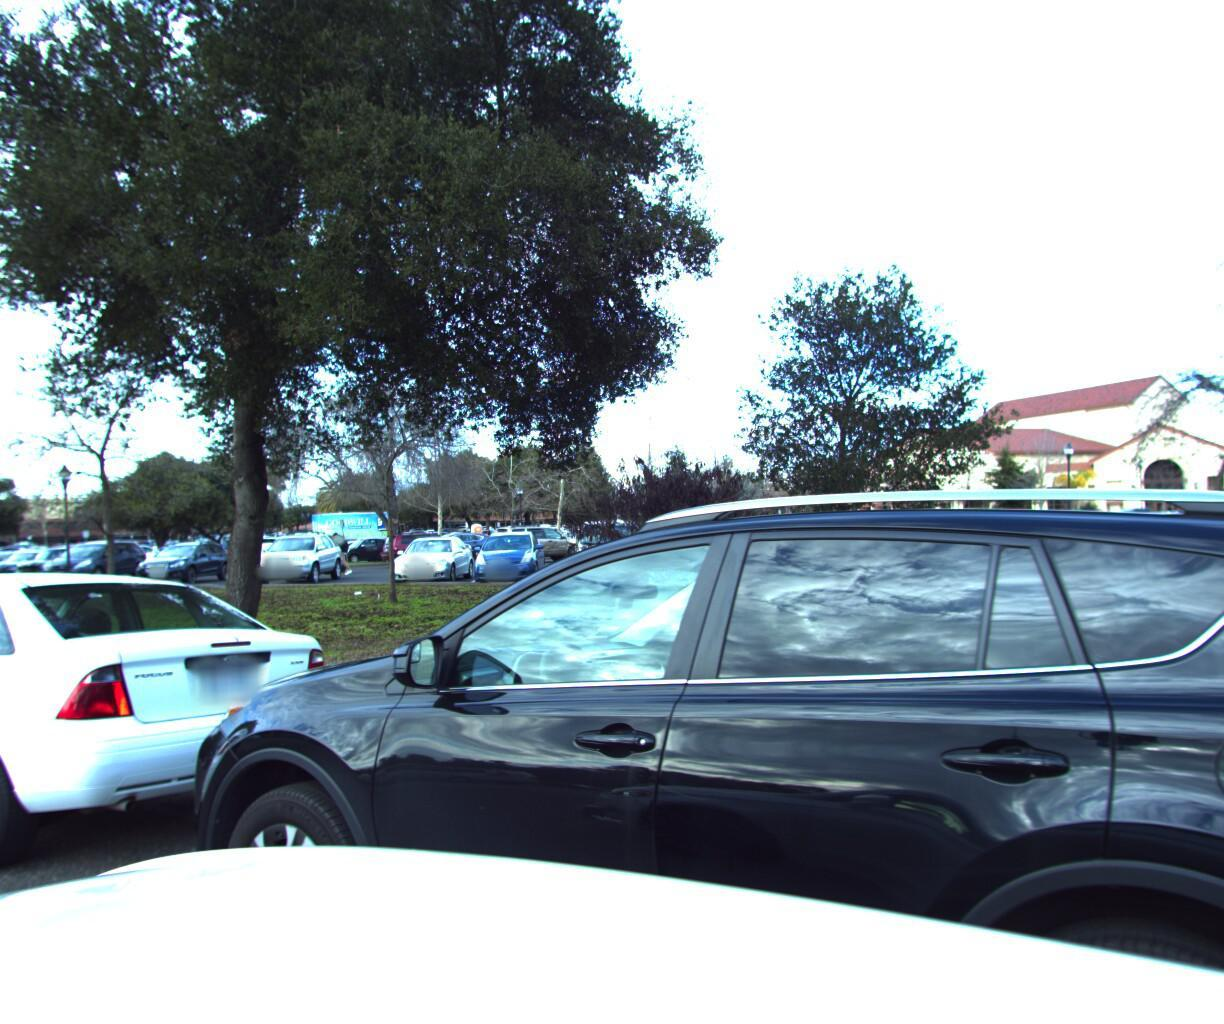car: (81, 458, 1224, 1024), (0, 559, 371, 935)
